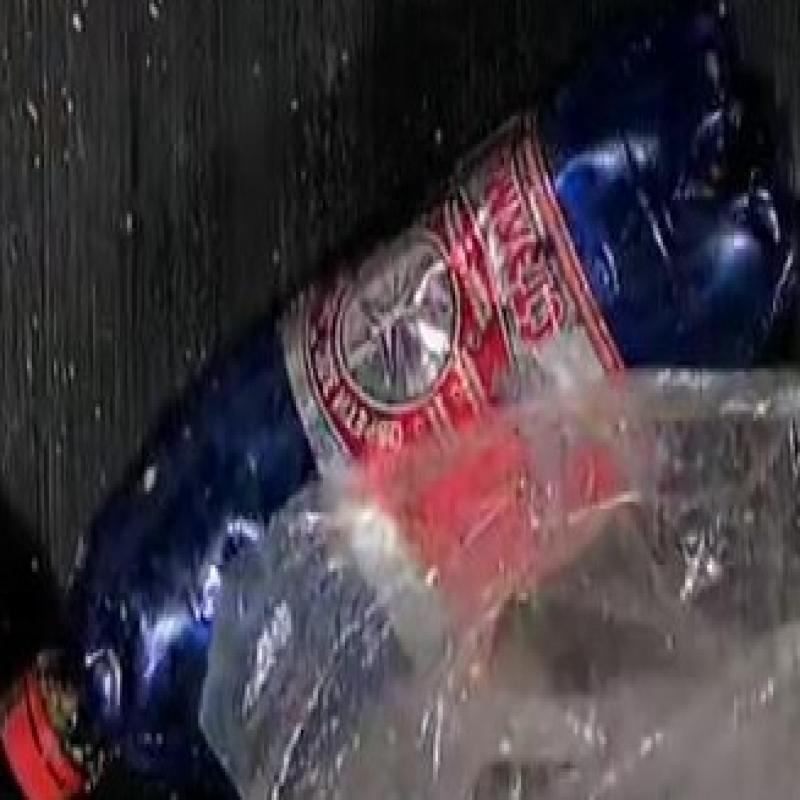botella: (10, 31, 800, 800)
